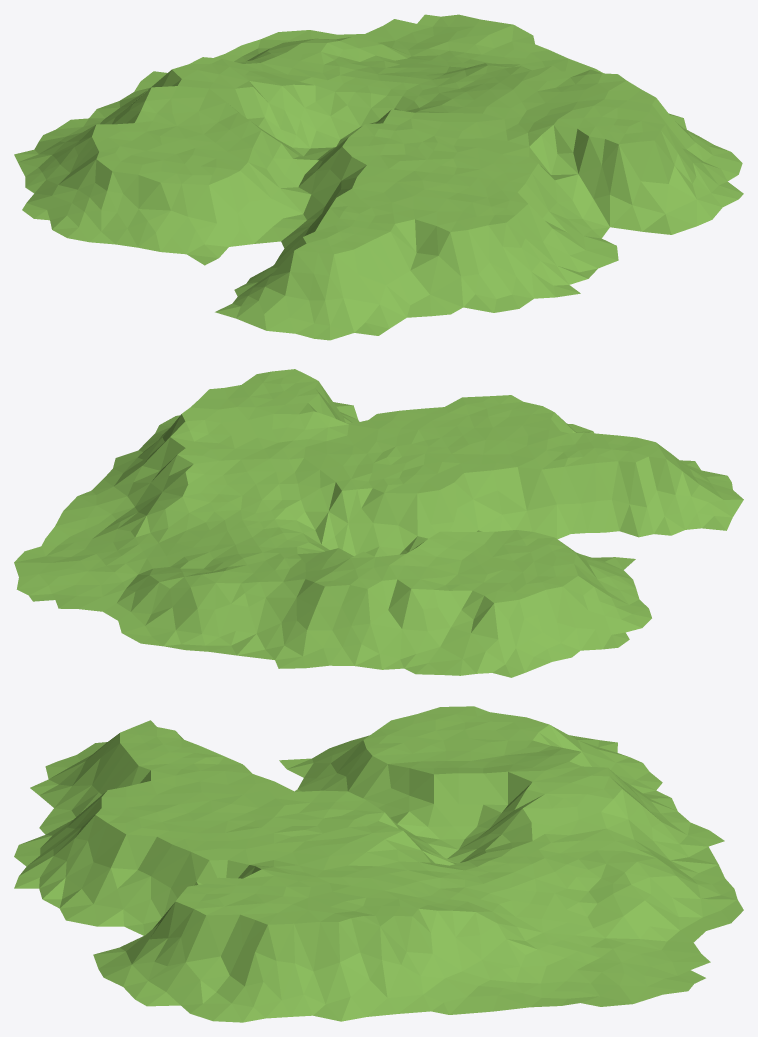
The model's file is MT_Mountain_L_c_02_LOD.fbx.
The picture shows the model from 3 angles, top to bottom: view 1: azimuth 30°, elevation 25°; view 2: azimuth 150°, elevation 25°; view 3: azimuth 270°, elevation 25°; orthographic projection. The views are drawn at different scales.
Parts seen in each view (by area): view 1: MT_Mountain_L_c_02_LOD0; view 2: MT_Mountain_L_c_02_LOD0; view 3: MT_Mountain_L_c_02_LOD0.
Part boxes in pixels (x1,y1,x2,y2): MT_Mountain_L_c_02_LOD0: (14,14,743,340); MT_Mountain_L_c_02_LOD0: (14,369,743,677); MT_Mountain_L_c_02_LOD0: (14,706,743,1022).
Size of what is drawn, in the model's own units: 9206 by 951 by 9265.
